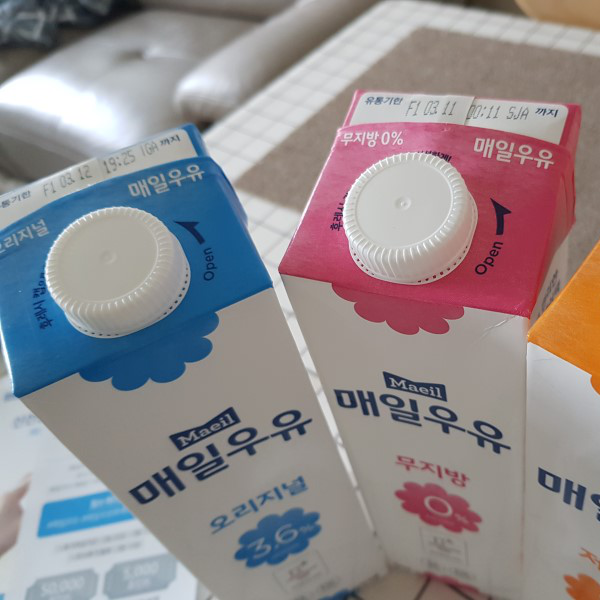milk: (3, 124, 387, 600), (277, 85, 580, 600), (526, 236, 599, 600)
